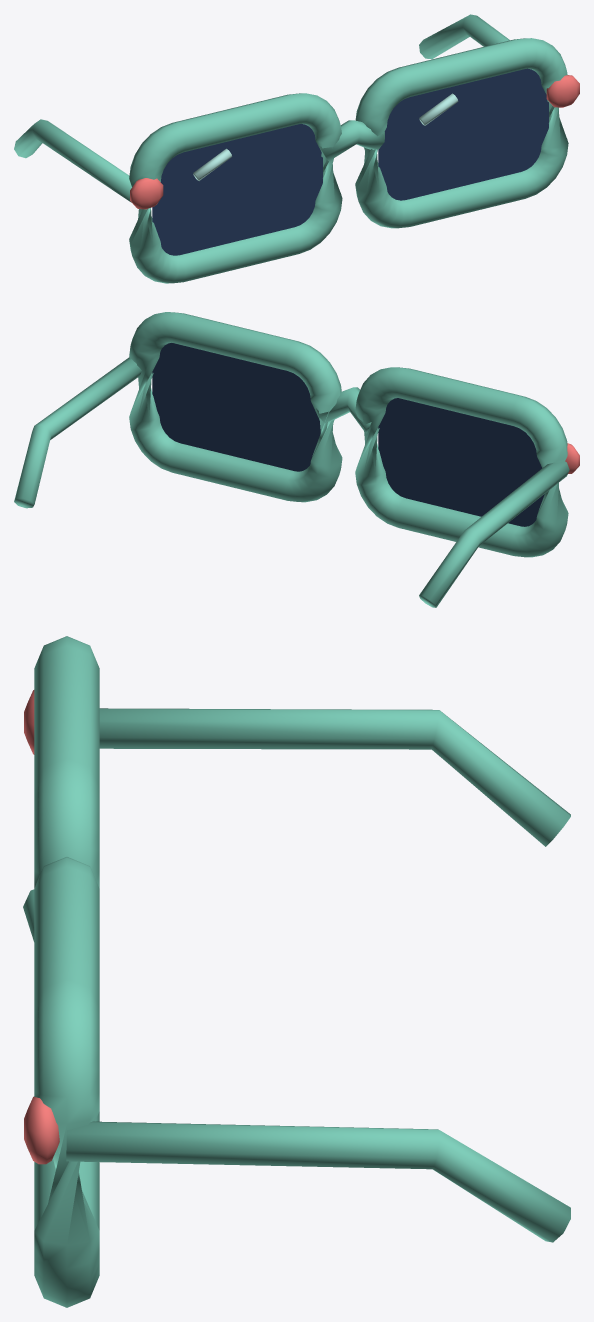
File: sunglasses.glb
The picture shows the model from 3 angles, top to bottom: view 1: azimuth 30°, elevation 25°; view 2: azimuth 150°, elevation 25°; view 3: azimuth 270°, elevation 25°; orthographic projection. The views are drawn at different scales.
Visible parts, largest first — view 1: navy-lens.001, navy-lens, mint-frame, mint-frame.001, temple-arm, temple-arm.001, bridge, coral-hinge, coral-hinge.001, lens-glint, lens-glint.001; view 2: mint-frame.001, mint-frame, navy-lens.001, navy-lens, temple-arm, temple-arm.001, bridge; view 3: mint-frame.001, temple-arm.001, temple-arm, mint-frame, coral-hinge.001.
Boxes of the visible parts, x1,y1,x2,y2 form: navy-lens.001: (378,68,548,200); navy-lens: (152,124,322,255); mint-frame: (129,93,342,283); mint-frame.001: (355,38,568,228); temple-arm: (14,119,131,202); temple-arm.001: (419,14,509,59); bridge: (319,120,384,161); coral-hinge: (130,178,163,209); coral-hinge.001: (546,75,579,107); lens-glint: (193,148,232,180); lens-glint.001: (419,93,458,125); mint-frame.001: (129,312,342,502); mint-frame: (355,367,568,557); navy-lens.001: (152,343,320,471); navy-lens: (378,398,544,526); temple-arm: (419,461,569,607); temple-arm.001: (14,357,141,508); bridge: (316,387,371,433); mint-frame.001: (34,857,99,1307); temple-arm.001: (66,1121,570,1242); temple-arm: (99,708,570,846); mint-frame: (34,636,99,888); coral-hinge.001: (24,1096,59,1164).
Bounding box in the file's own units: 1 × 0.3399 × 0.5291.
